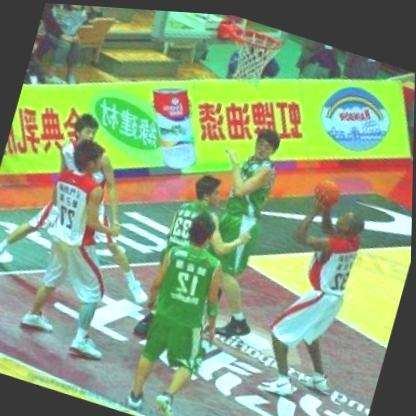basketball: (312, 169, 348, 205)
